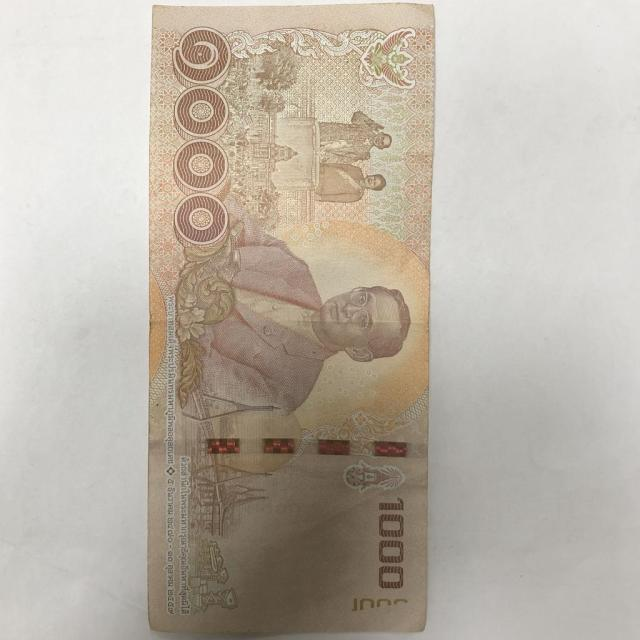THAI1000: (146, 0, 436, 639)
